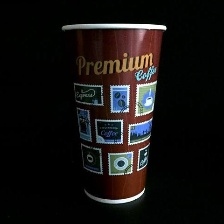paper_cup: (53, 14, 170, 209)
